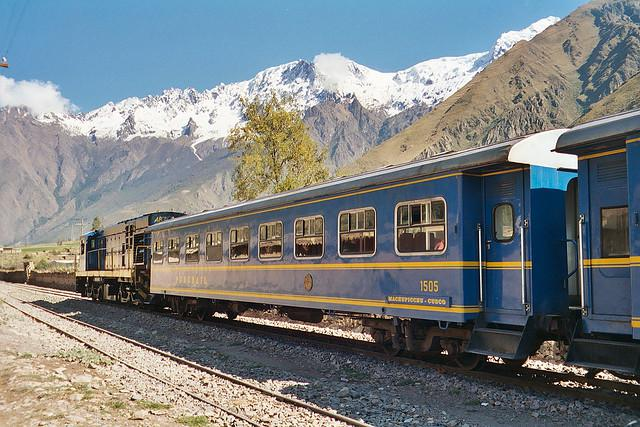Train: (79, 111, 640, 388)
